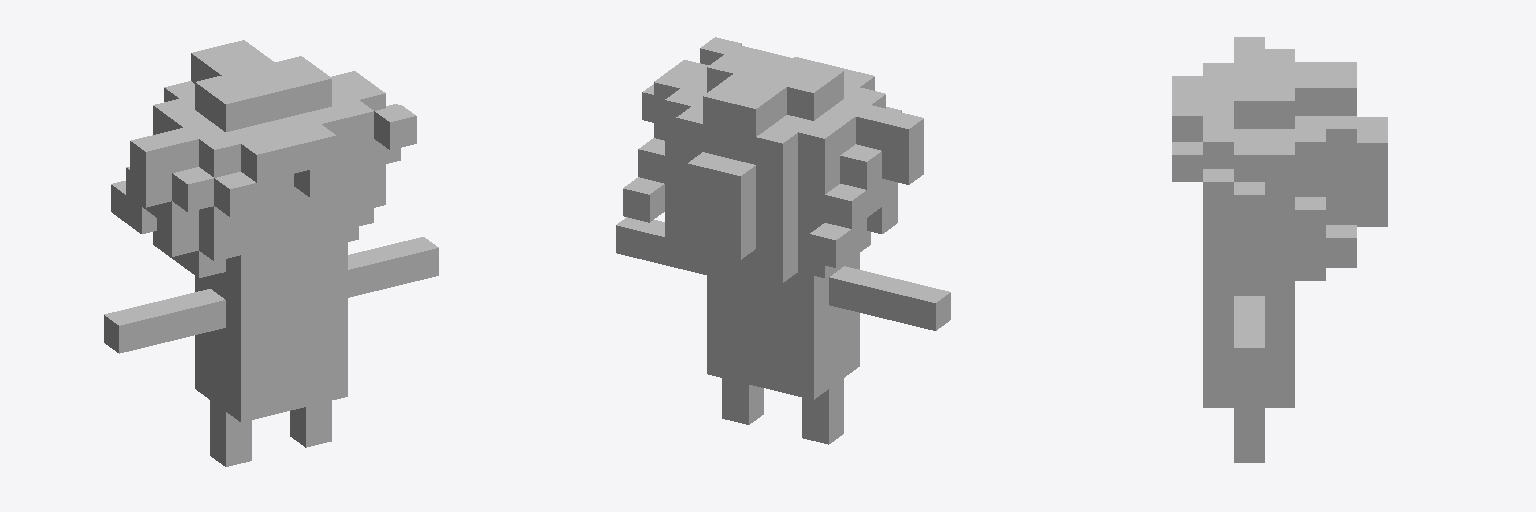
Rendered from Blonde naked man.obj.
3 views of the same model, side by side, from view 1: azimuth 30°, elevation 25°; view 2: azimuth 150°, elevation 25°; view 3: azimuth 270°, elevation 25° (orthographic).
Visible parts, largest first — view 1: Blonde naked man; view 2: Blonde naked man; view 3: Blonde naked man.
Boxes of the visible parts, box(x1,y1,x2,y2) form: Blonde naked man: box(104, 40, 438, 466); Blonde naked man: box(616, 37, 950, 444); Blonde naked man: box(1172, 37, 1387, 462).
Size of the model in its own units: 12 by 13 by 7.